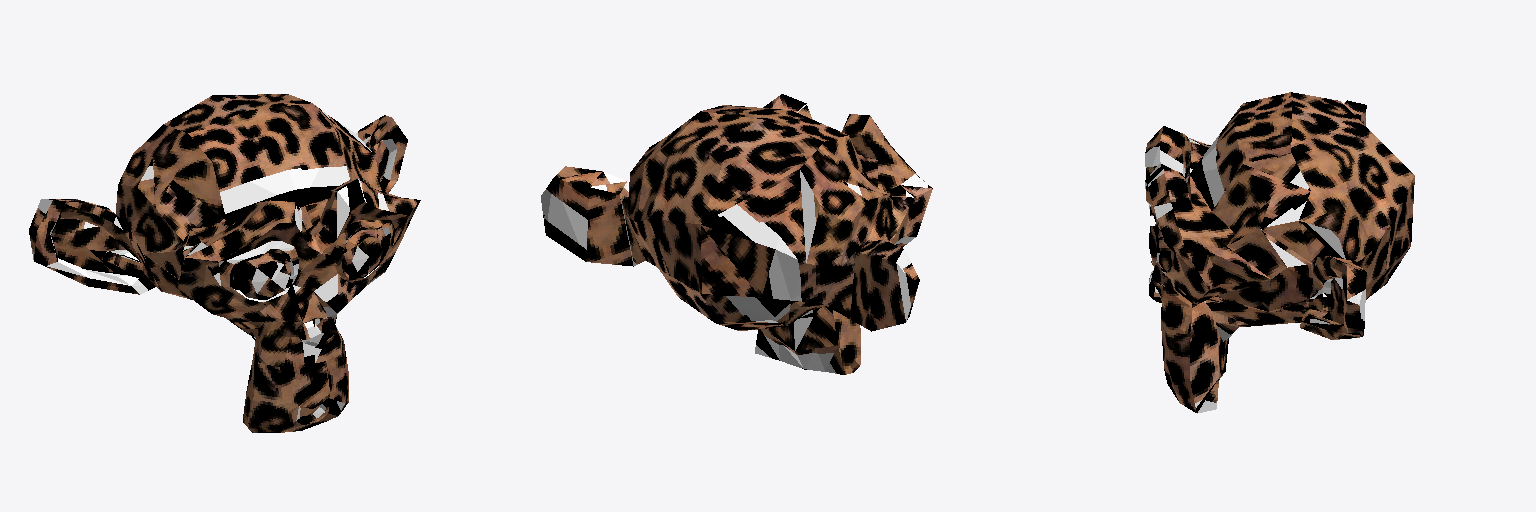
3 views of the same model, side by side, from view 1: azimuth 30°, elevation 25°; view 2: azimuth 150°, elevation 25°; view 3: azimuth 270°, elevation 25° (orthographic).
Visible parts, largest first — view 1: Suzanne; view 2: Suzanne; view 3: Suzanne.
Boxes of the visible parts, <box> form: Suzanne: <box>29,94,420,432</box>; Suzanne: <box>541,94,932,374</box>; Suzanne: <box>1145,92,1414,413</box>.
Bounding box in the file's own units: 2.73 × 1.97 × 1.7.
Materials: 1 (1 with a texture image).